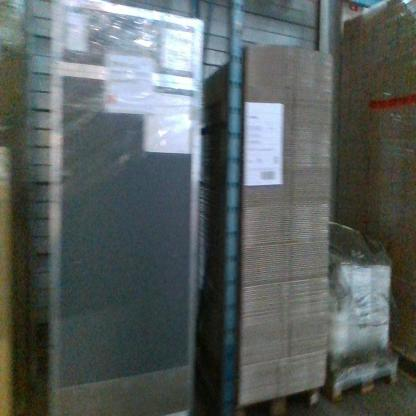pallet: (327, 355, 396, 405), (233, 384, 319, 416), (392, 346, 416, 385)
